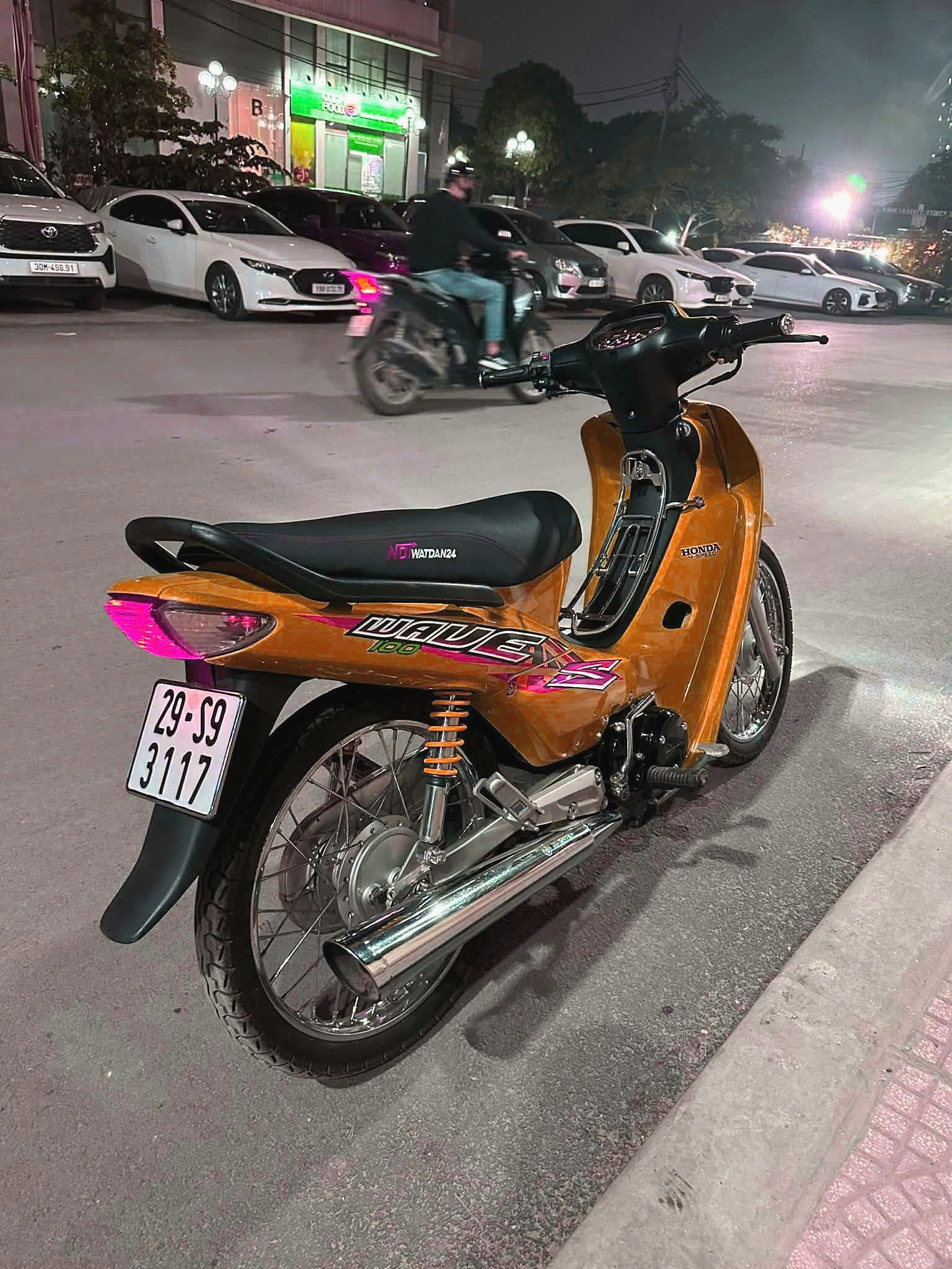Bien-so: (158, 650, 275, 794)
